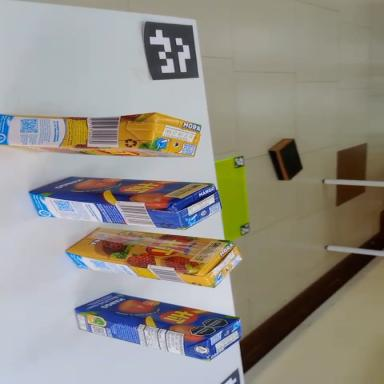HIT-MANGO: (70, 285, 244, 366), (28, 174, 222, 231)
HIT-MORA: (63, 224, 242, 290), (0, 111, 201, 157)
cara_F: (74, 285, 240, 344), (64, 224, 230, 274), (28, 175, 213, 205), (0, 146, 192, 157)
